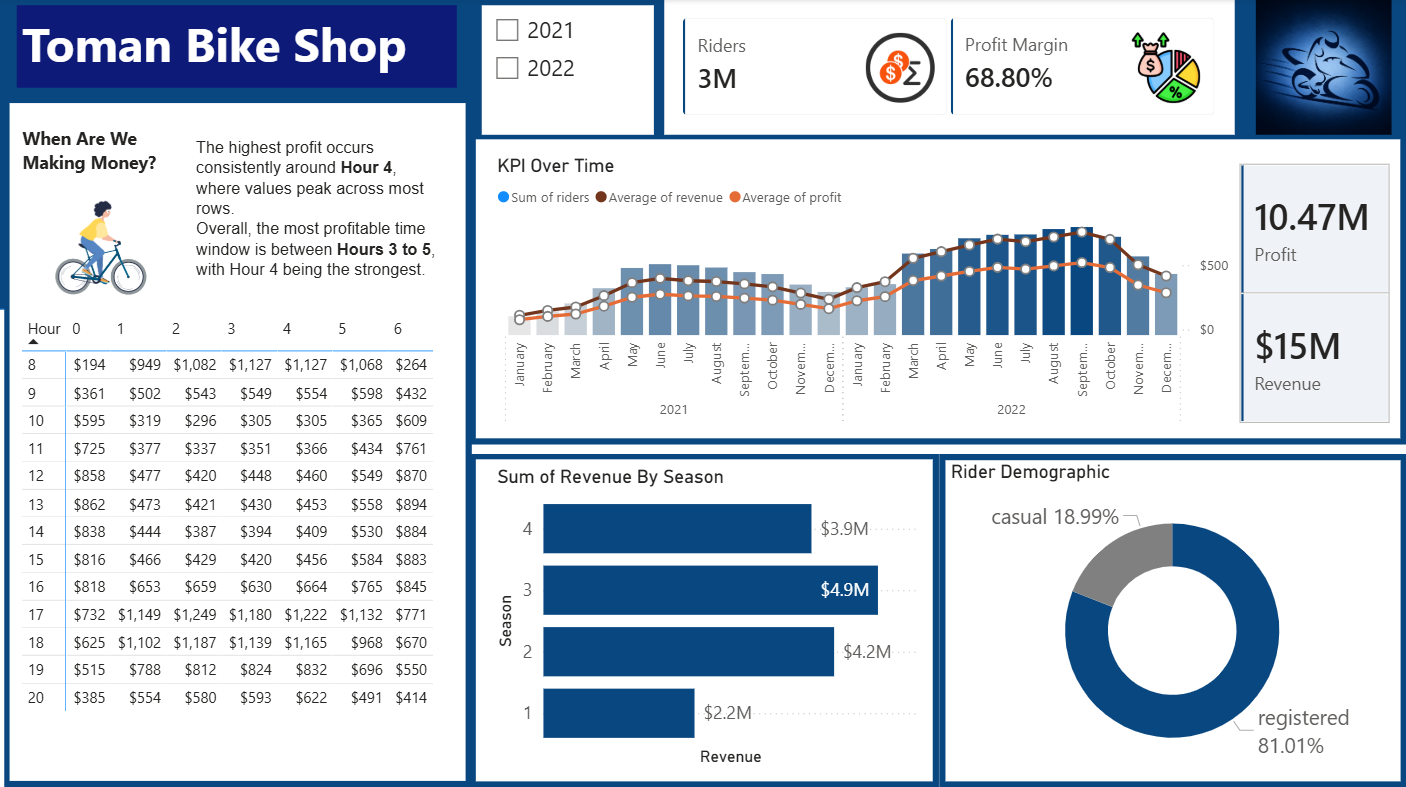

What the dashboard file says about the page in this screenshot:
{"tool":"powerbi","page":{"name":"Page 1","canvas":[1280,720],"ordinal":0},"visuals":[{"type":"shape","box":[4.1,0,1270.7,279.9],"z":0},{"type":"cardVisual","fields":{"Data":["Sum(Query1.yr)"]},"box":[9.6,89.2,421.3,621.6],"z":1000},{"type":"image","box":[22,168.8,156.4,108.4],"z":2000},{"type":"pivotTable","fields":{"Rows":["Query1.hr"],"Values":["Avg(Query1.revenue)"],"Columns":["Query1.weekday"]},"box":[22,279.9,396.6,415.8],"z":3000},{"type":"textbox","box":[22,109.8,156.4,59],"z":4000},{"type":"cardVisual","fields":{"Data":["Sum(Query1.yr)"]},"box":[430.9,122.1,843.9,279.9],"z":5000},{"type":"lineClusteredColumnComboChart","title":"KPI Over Time","fields":{"Category":["Query1.dteday.Variation.Date Hierarchy.Year","Query1.dteday.Variation.Date Hierarchy.Month"],"Y":["Sum(Query1.riders)"],"Y2":["Avg(Query1.revenue)","Avg(Query1.profit)"]},"box":[450.1,140,669.6,252.5],"z":6000},{"type":"cardVisual","fields":{"Data":["Sum(Query1.yr)"]},"box":[430.9,410.3,422.6,300.5],"z":7000},{"type":"textbox","box":[178.4,119.4,226.4,142.7],"z":8000},{"type":"clusteredBarChart","title":"Sum of Revenue By Season","fields":{"Category":["Query1.season"],"Y":["Sum(Query1.revenue)"]},"box":[450.1,419.9,389.7,275.8],"z":9000},{"type":"donutChart","title":"Rider Demographic","fields":{"Category":["Query1.rider_type"],"Y":["Sum(Query1.riders)"]},"box":[853.5,410.3,421.3,300.5],"z":10000},{"type":"cardVisual","fields":{"Data":["Sum(Query1.profit)","Sum(Query1.revenue)"]},"box":[1119.7,140,145.5,252.5],"z":11000},{"type":"cardVisual","fields":{"Data":["Sum(Query1.riders)","Query1.Profit Margin"]},"box":[605.1,0,514.6,122.1],"z":12000},{"type":"slicer","fields":{"Values":["Query1.Years"]},"box":[440.5,5.5,155.1,116.6],"z":13000},{"type":"image","box":[1133.5,0,131.7,122.1],"z":14000},{"type":"textbox","box":[22,5.5,396.6,74.1],"z":15000}]}

Visuals, with their boxes in screenshot pixels (x1, y1, x2, y2), scaled from the page's 1280x720 canvas onto the 1406x787 screenshot:
shape: select_region(5, 0, 1400, 306)
cardVisual - Sum(Query1.yr): select_region(11, 98, 473, 777)
image: select_region(24, 185, 196, 303)
pivotTable - Query1.hr x Avg(Query1.revenue): select_region(24, 306, 460, 760)
textbox: select_region(24, 120, 196, 185)
cardVisual - Sum(Query1.yr): select_region(473, 133, 1400, 439)
"KPI Over Time" lineClusteredColumnComboChart: select_region(494, 153, 1230, 429)
cardVisual - Sum(Query1.yr): select_region(473, 448, 938, 777)
textbox: select_region(196, 131, 445, 286)
"Sum of Revenue By Season" clusteredBarChart: select_region(494, 459, 922, 760)
"Rider Demographic" donutChart: select_region(938, 448, 1400, 777)
cardVisual - Sum(Query1.profit) x Sum(Query1.revenue): select_region(1230, 153, 1390, 429)
cardVisual - Sum(Query1.riders) x Query1.Profit Margin: select_region(665, 0, 1230, 133)
slicer - Query1.Years: select_region(484, 6, 654, 133)
image: select_region(1245, 0, 1390, 133)
textbox: select_region(24, 6, 460, 87)
